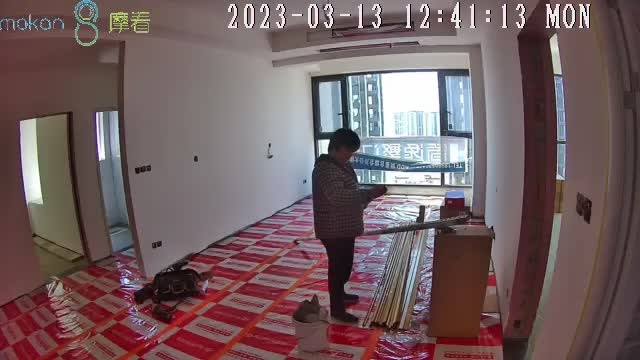people: (313, 128, 386, 322)
window: (314, 71, 474, 189)
